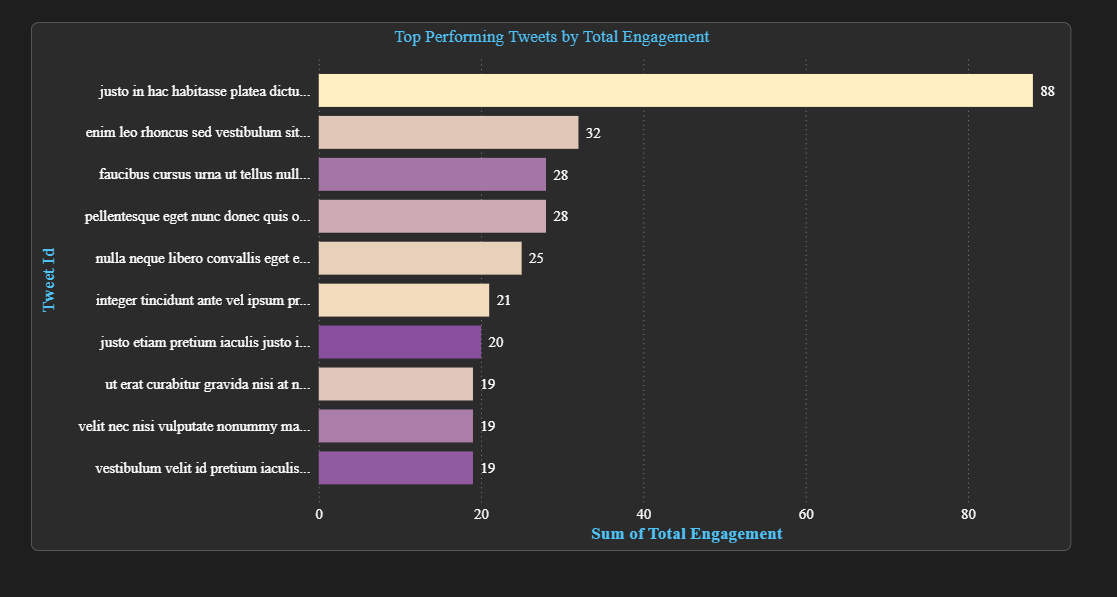

This screenshot's page, from the dashboard's own definition file:
{"tool":"powerbi","page":{"name":"Task 6","canvas":[1280,720],"ordinal":5},"visuals":[{"type":"clusteredBarChart","title":"Top Performing Tweets by Total Engagement","fields":{"Y":["Sum(SocialMedia (1).Total Engagement)"],"Category":["SocialMedia (1).Short Tweet"]},"box":[80.7,76.7,1118.9,568.9],"z":0}]}

Visuals, with their boxes on the page's 1280x720 design canvas (x1, y1, x2, y2). These are canvas units, not pixel positions in the 1117x597 screenshot, which may show the page scaled, cropped or inside an application window:
"Top Performing Tweets by Total Engagement" clusteredBarChart: (81,77,1200,646)
